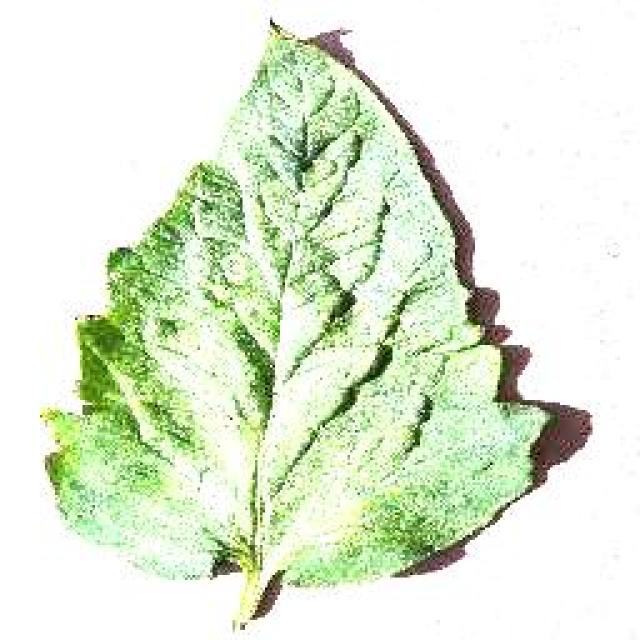Tomato___Target_Spot: (42, 30, 548, 628)
